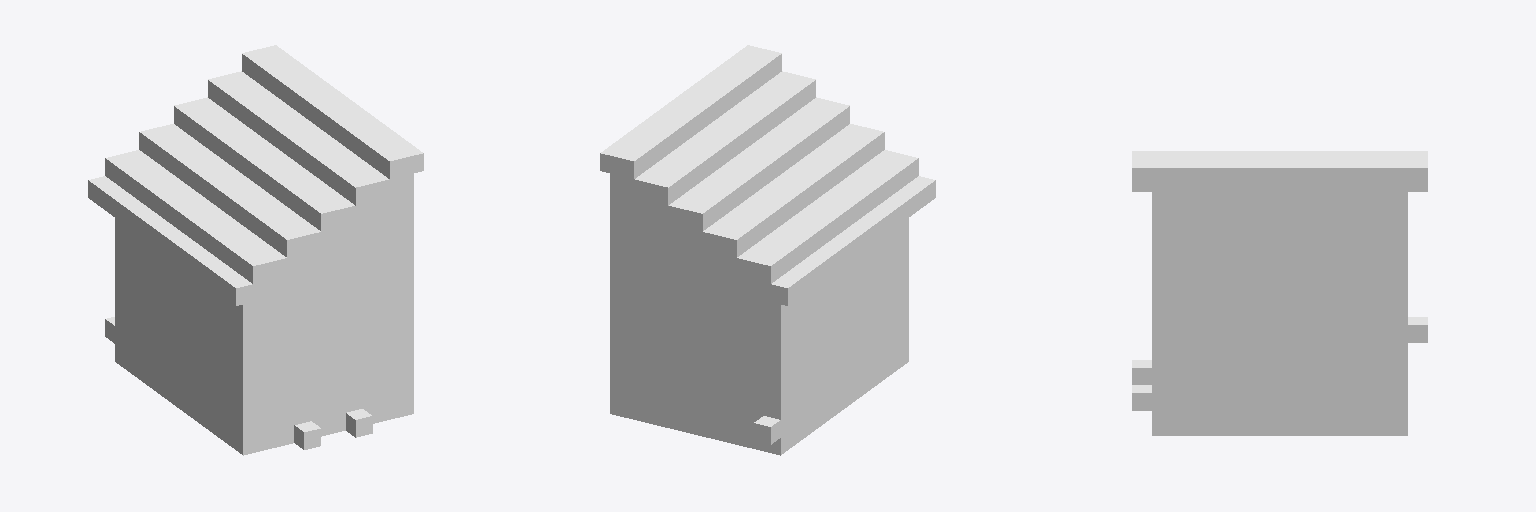
The model's file is 2-party-single-pitch-roof.obj.
3 renders of one model, left to right at view 1: azimuth 30°, elevation 25°; view 2: azimuth 150°, elevation 25°; view 3: azimuth 270°, elevation 25°, orthographic.
Visible parts, largest first — view 1: 2-party-single-pitch-roof; view 2: 2-party-single-pitch-roof; view 3: 2-party-single-pitch-roof.
Part boxes in pixels (x1,y1,x2,y2): 2-party-single-pitch-roof: (88, 45, 423, 455); 2-party-single-pitch-roof: (600, 45, 935, 455); 2-party-single-pitch-roof: (1132, 151, 1427, 435).
Bounding box in the file's own units: 11 × 15 × 15.